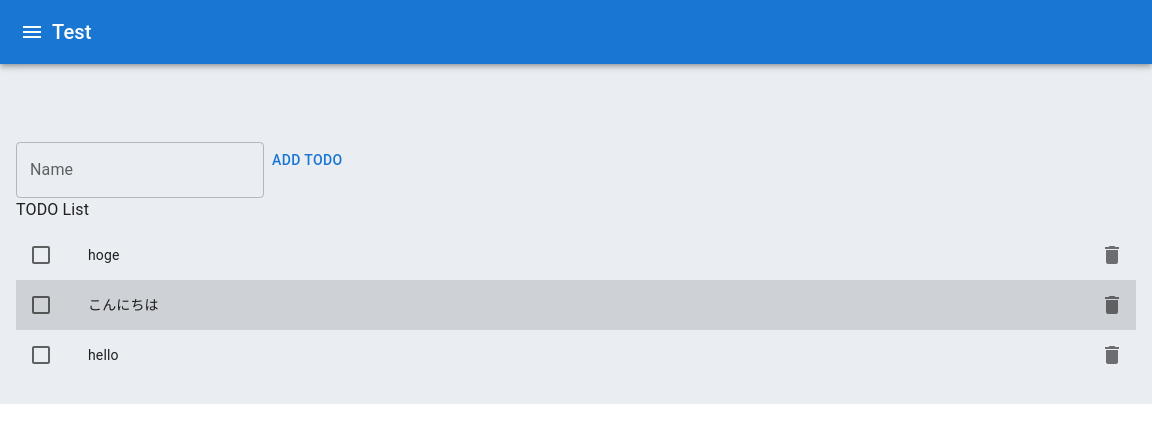
Test case: 2_useStte › delete TODO
Click the icon with test id ".MuiListItemSecondaryAction-root > .MuiButtonBase-root > [data-testid=\"DeleteIcon\"]" at (1112, 305), box [1100,293,1124,317]
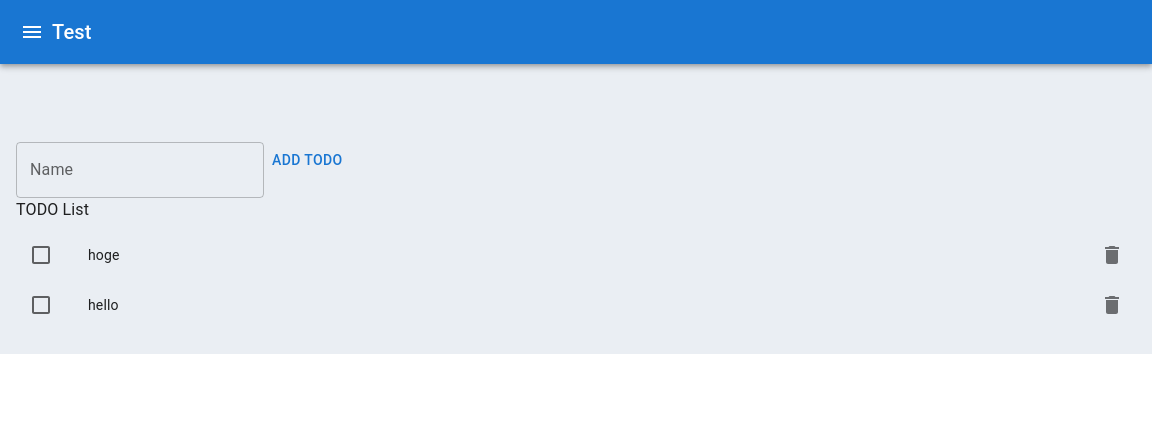
Expected: the text "hoge" is shown, [88,247,120,263]
Expected: the text "hello" is shown, [88,297,119,313]
Type "Hello world" into the field with id "todo-title" at (140, 170), box [16,142,264,198]
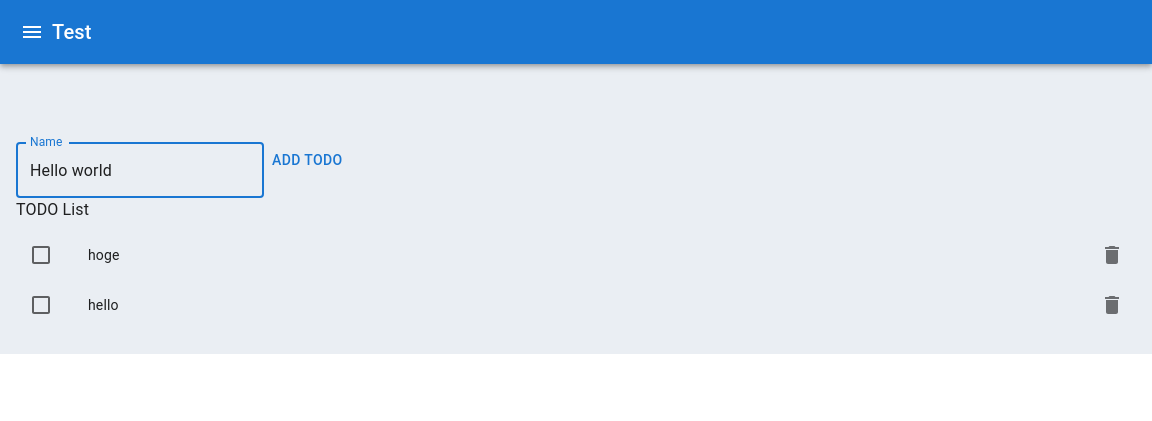
Click the button with id "add-todo" at (308, 161), box [264,142,351,179]
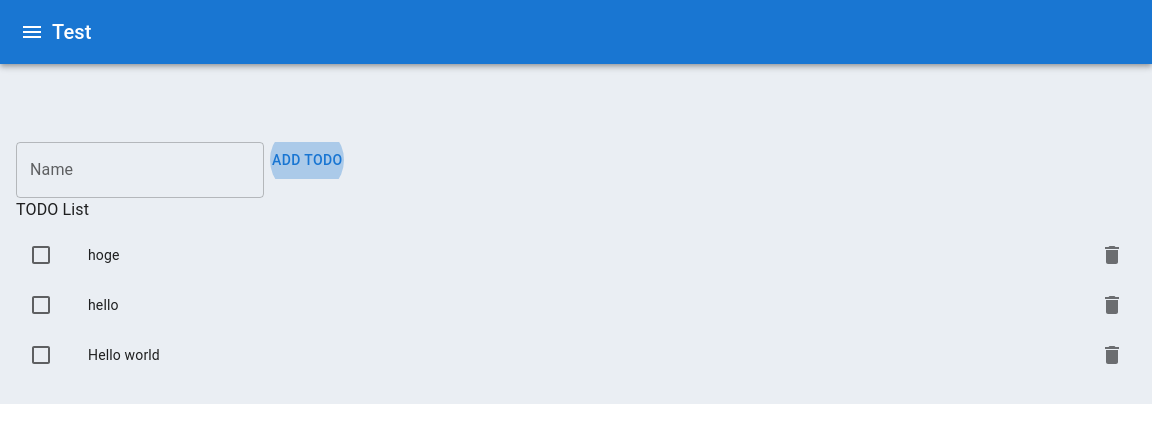
Expected: the text "hoge" is shown, [88,247,120,263]
Now the text "Hello world" is shown, box [88,347,160,363]
